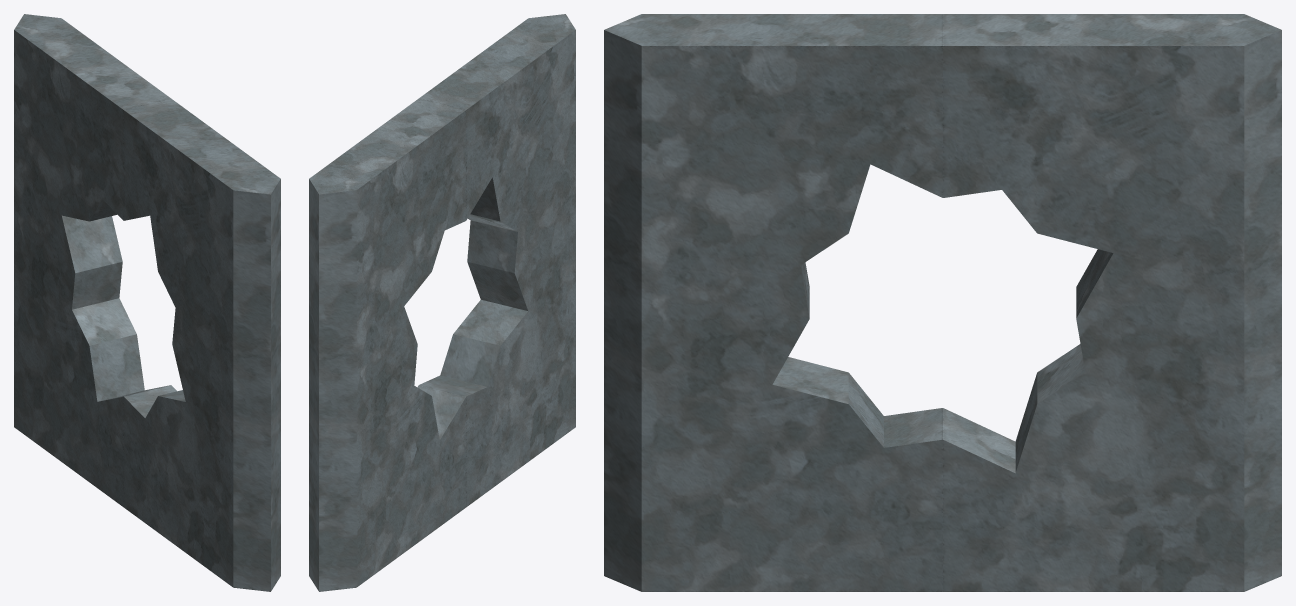
Rendered from wall_hole.fbx.
3 views of the same model, side by side, from view 1: azimuth 30°, elevation 25°; view 2: azimuth 150°, elevation 25°; view 3: azimuth 270°, elevation 25° (orthographic). The views are drawn at different scales.
Visible parts, largest first — view 1: wall_destroyedHole; view 2: wall_destroyedHole; view 3: wall_destroyedHole.
Part boxes in pixels (box(x1,y1,x2,y2)): wall_destroyedHole: box(14, 14, 280, 591); wall_destroyedHole: box(309, 14, 575, 591); wall_destroyedHole: box(604, 14, 1281, 591).
Bounding box in the file's own units: 1.25 × 10 × 11.25.
Materials: 1 (1 with a texture image).
